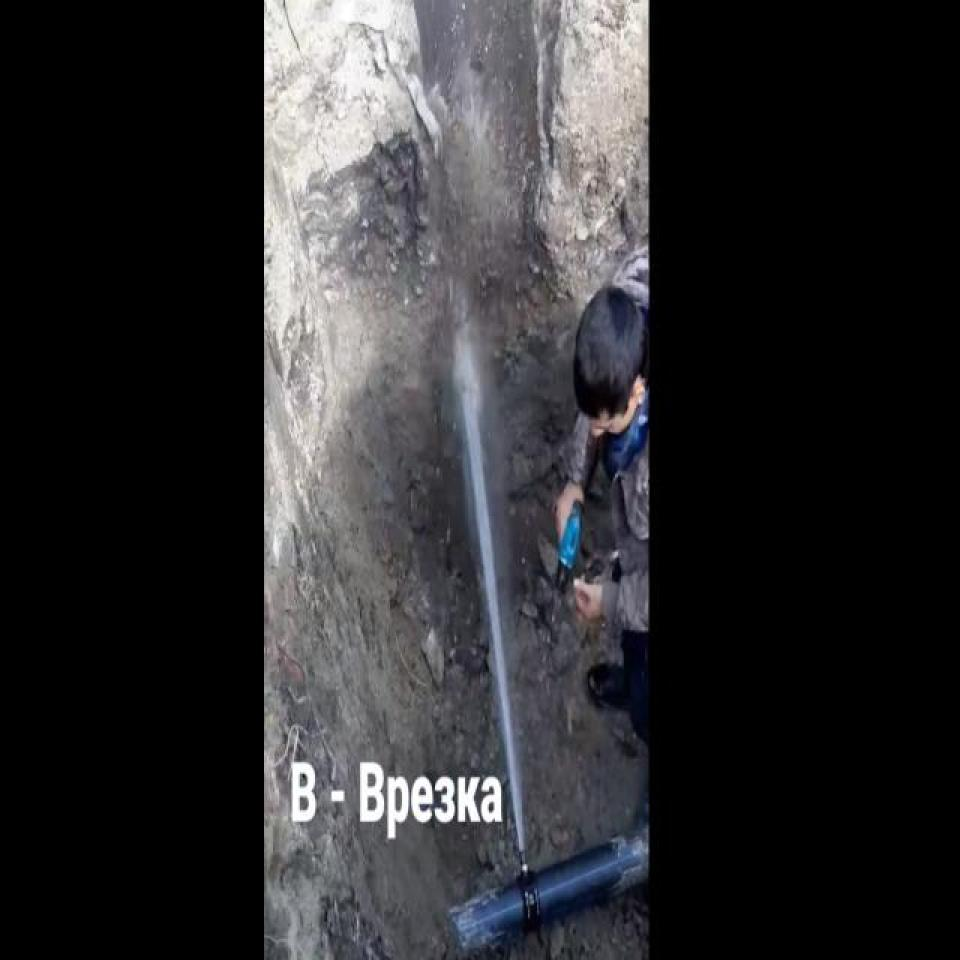pipe burst: (451, 336, 537, 880)
